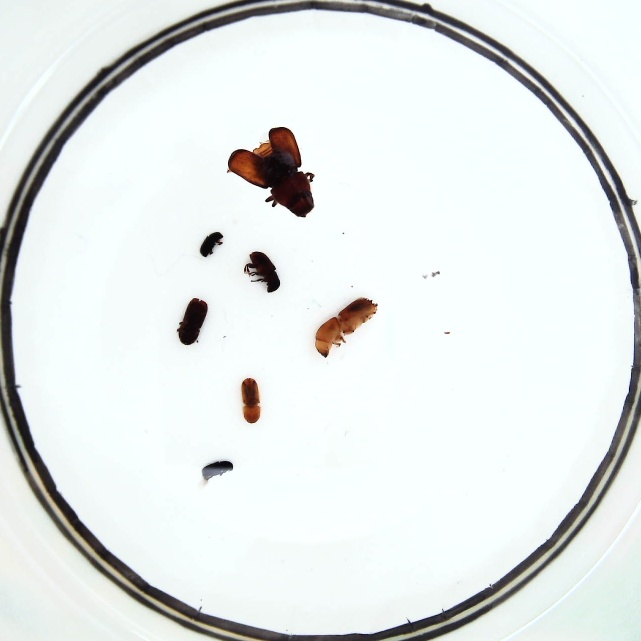acuminatus: (240, 379, 264, 425)
armandi: (244, 251, 279, 293)
boerner: (314, 295, 377, 359)
coleoptera: (199, 232, 224, 258), (202, 461, 234, 481)
leconte: (227, 127, 314, 219)
linnaeus: (178, 297, 208, 346)
